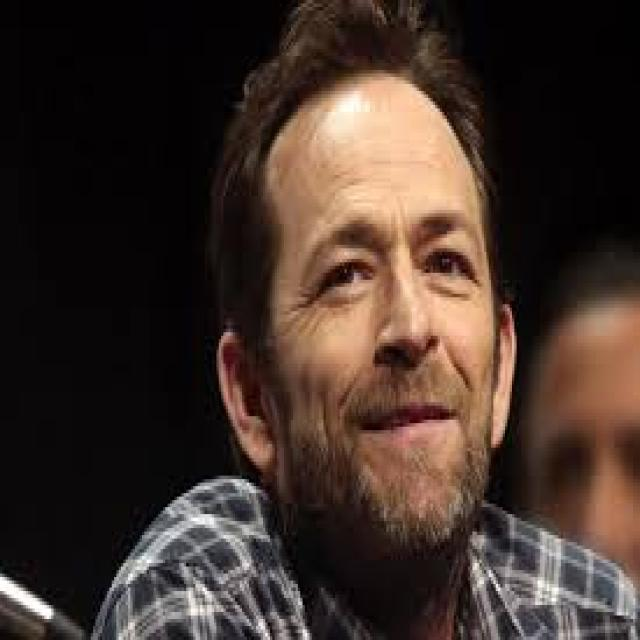normal_face: (228, 59, 550, 570)
